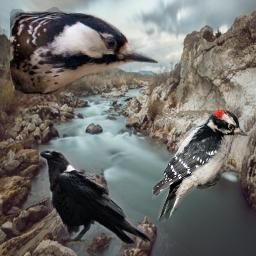Crow: (39, 145, 153, 249)
Woodpecker: (10, 5, 158, 98), (152, 110, 252, 224)
